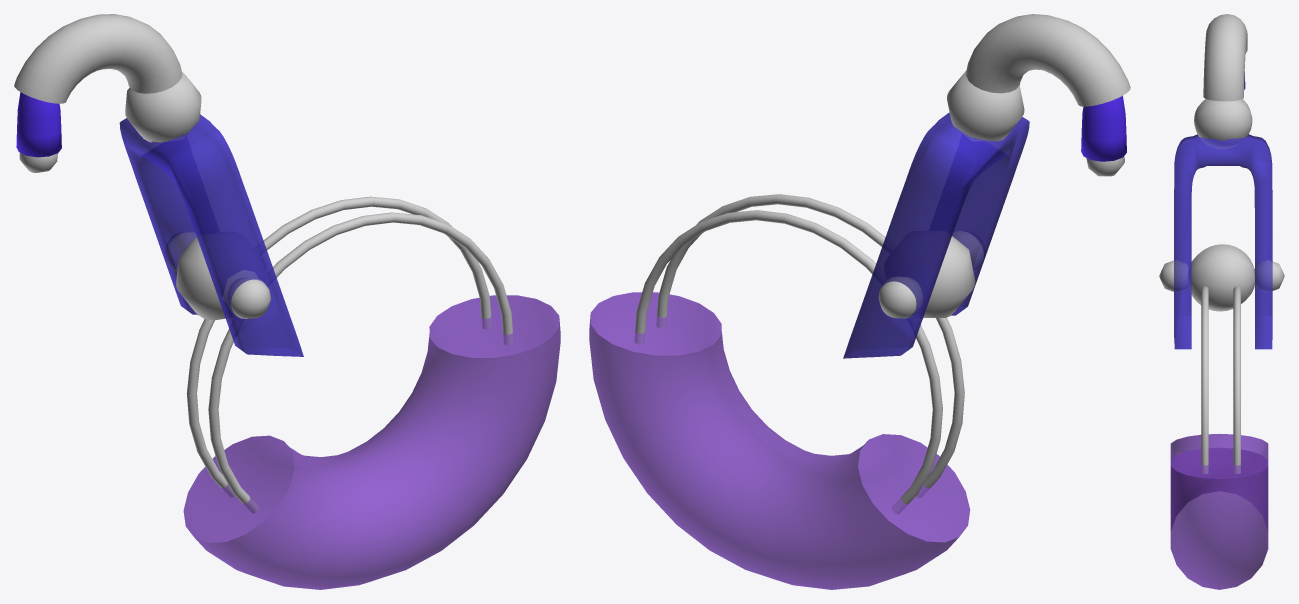
File: desen_tool (2).obj
3 views of the same model, side by side, from view 1: azimuth 30°, elevation 25°; view 2: azimuth 150°, elevation 25°; view 3: azimuth 270°, elevation 25° (orthographic). The views are drawn at different scales.
Visible parts, largest first — view 1: Circle.050_Red_Elements.001, Circle.050_shiny1, Circle.050_Material.013, Circle.050_Material.014; view 2: Circle.050_Red_Elements.001, Circle.050_shiny1, Circle.050_Material.013, Circle.050_Material.014; view 3: Circle.050_Red_Elements.001, Circle.050_shiny1, Circle.050_Material.013.
Part boxes in pixels (bbox=[...]): Circle.050_Red_Elements.001: bbox=[183, 295, 560, 589]; Circle.050_shiny1: bbox=[14, 14, 513, 513]; Circle.050_Material.013: bbox=[119, 114, 303, 356]; Circle.050_Material.014: bbox=[16, 92, 61, 157]; Circle.050_Red_Elements.001: bbox=[589, 292, 970, 589]; Circle.050_shiny1: bbox=[634, 14, 1130, 513]; Circle.050_Material.013: bbox=[843, 112, 1029, 358]; Circle.050_Material.014: bbox=[1081, 95, 1126, 161]; Circle.050_Red_Elements.001: bbox=[1170, 433, 1268, 589]; Circle.050_shiny1: bbox=[1159, 14, 1284, 473]; Circle.050_Material.013: bbox=[1174, 134, 1272, 349].
Size of the model in its own units: 27.41 by 30.65 by 7.54.
